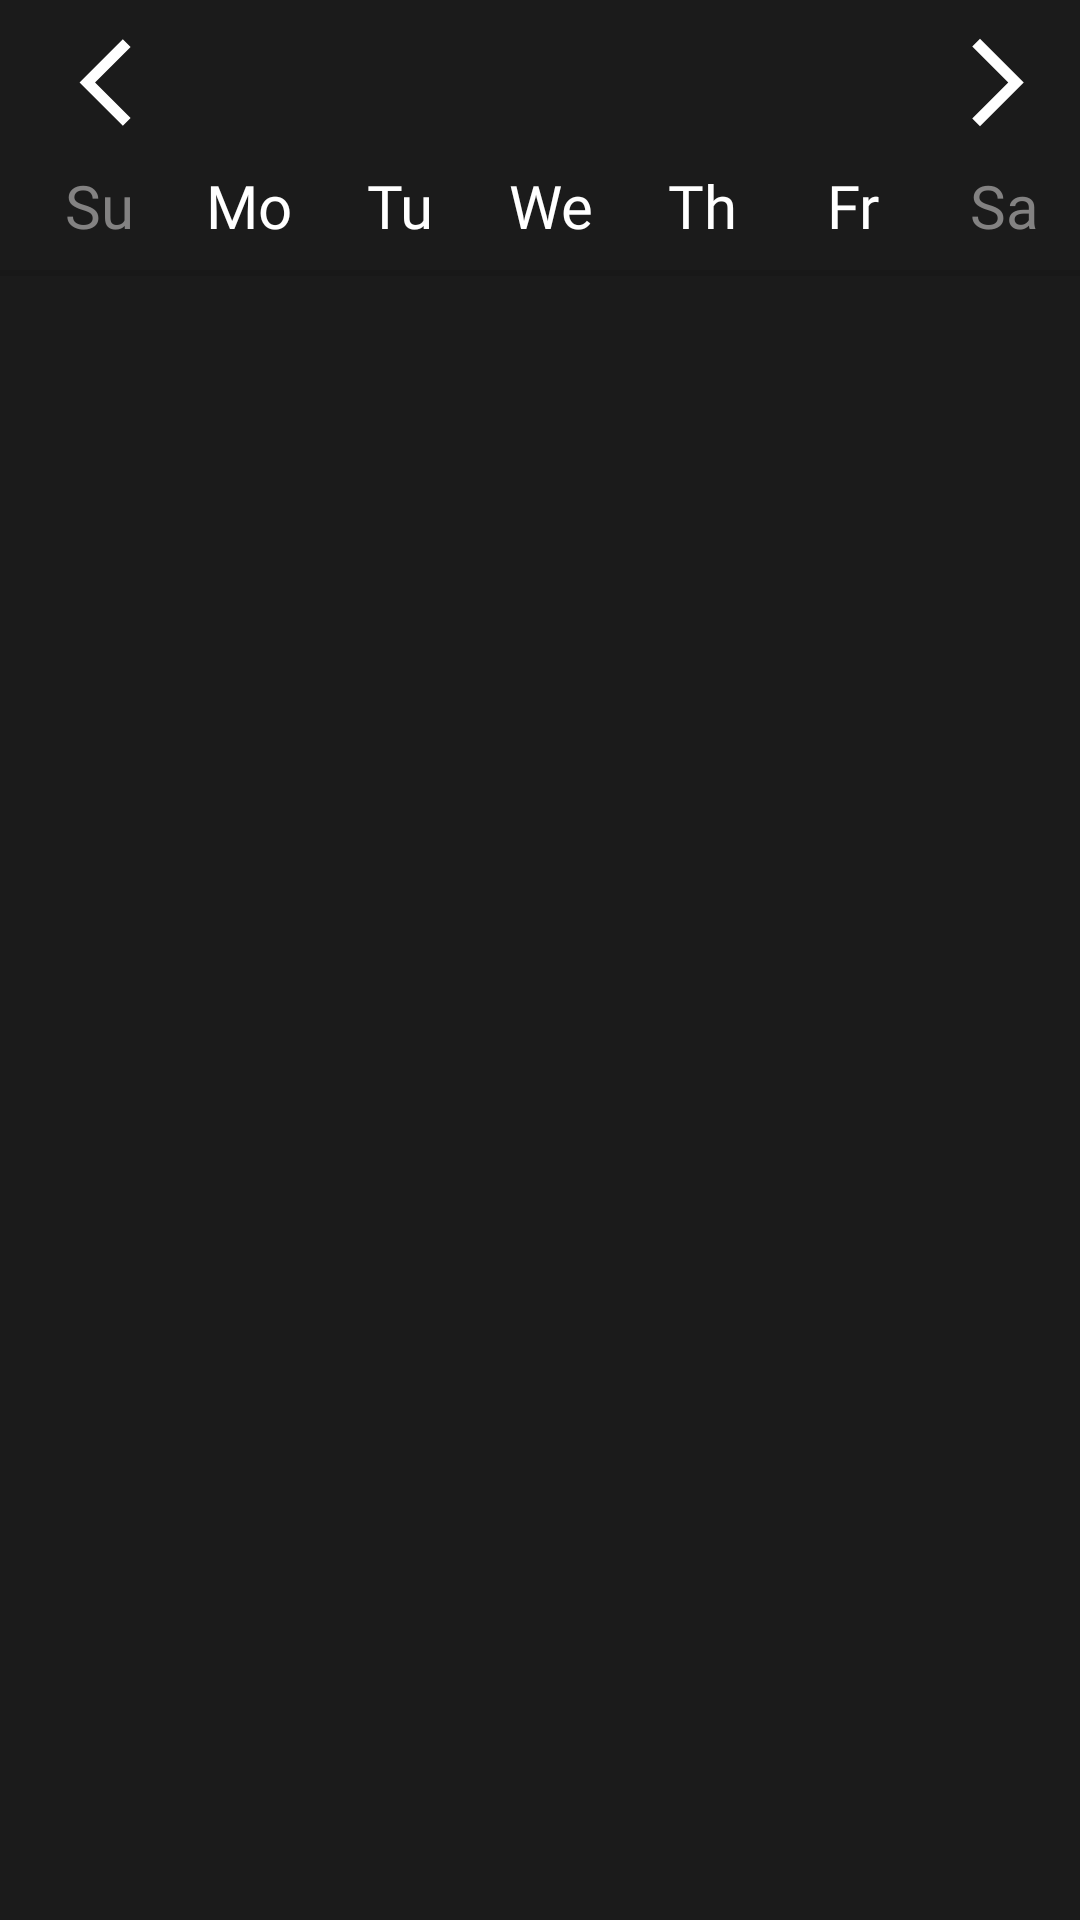

Screen size 1080w x 1920h. Icon name, then its box in pixels as (x1, y1, x2, y2):
arrow back: (79, 39, 131, 126)
arrow forward: (972, 39, 1024, 126)
